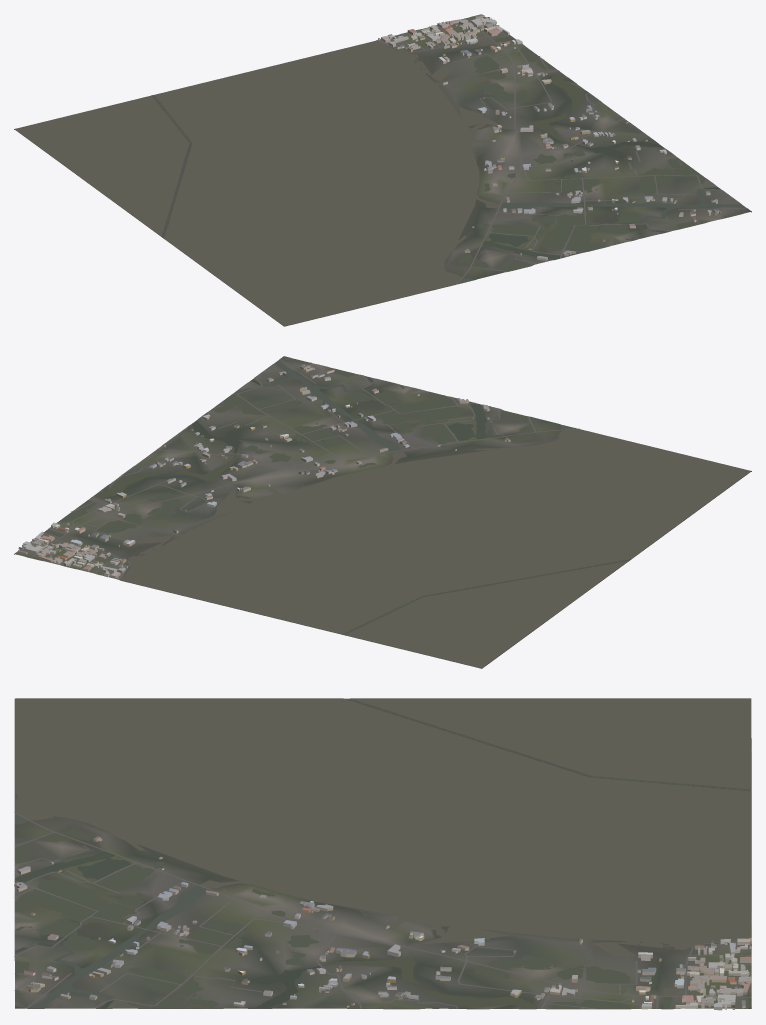
3 views of the same model, one above another, from view 1: azimuth 30°, elevation 25°; view 2: azimuth 150°, elevation 25°; view 3: azimuth 270°, elevation 25° (orthographic). The views are drawn at different scales.
Parts seen in each view (by area): view 1: water, ground, buildings, roads; view 2: water, ground, buildings, roads; view 3: water, ground, buildings, roads.
Boxes of the visible parts, x1,y1,x2,y2 form: water: (15, 18, 744, 326); ground: (14, 14, 751, 326); buildings: (378, 14, 721, 260); roads: (376, 18, 747, 284); water: (28, 359, 750, 668); ground: (14, 356, 751, 668); buildings: (18, 364, 510, 579); roads: (31, 359, 579, 579); water: (15, 698, 751, 1008); ground: (14, 698, 751, 1009); buildings: (14, 836, 751, 1010); roads: (14, 812, 751, 1008).
Size of the model in its own units: 1407 by 12.88 by 1403.
